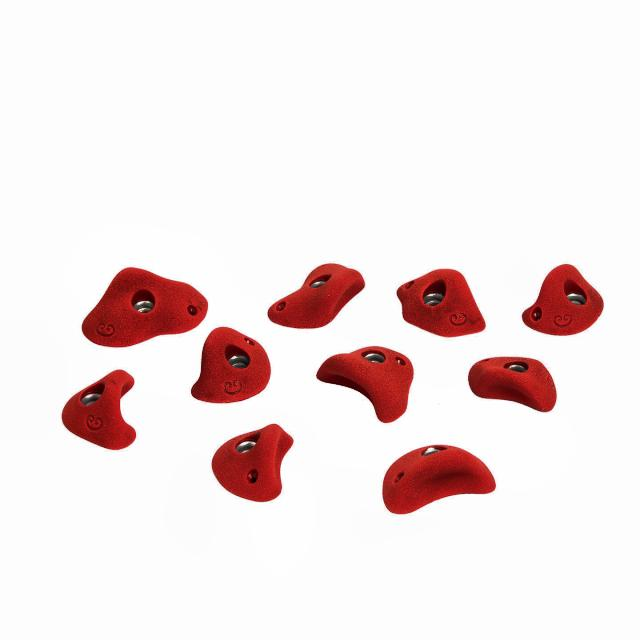Hold: (81, 266, 211, 346), (380, 445, 497, 516), (314, 343, 414, 422), (266, 263, 366, 330), (394, 267, 488, 336), (211, 422, 291, 502), (61, 368, 136, 450), (190, 327, 270, 402), (523, 263, 603, 336), (469, 354, 557, 414)
